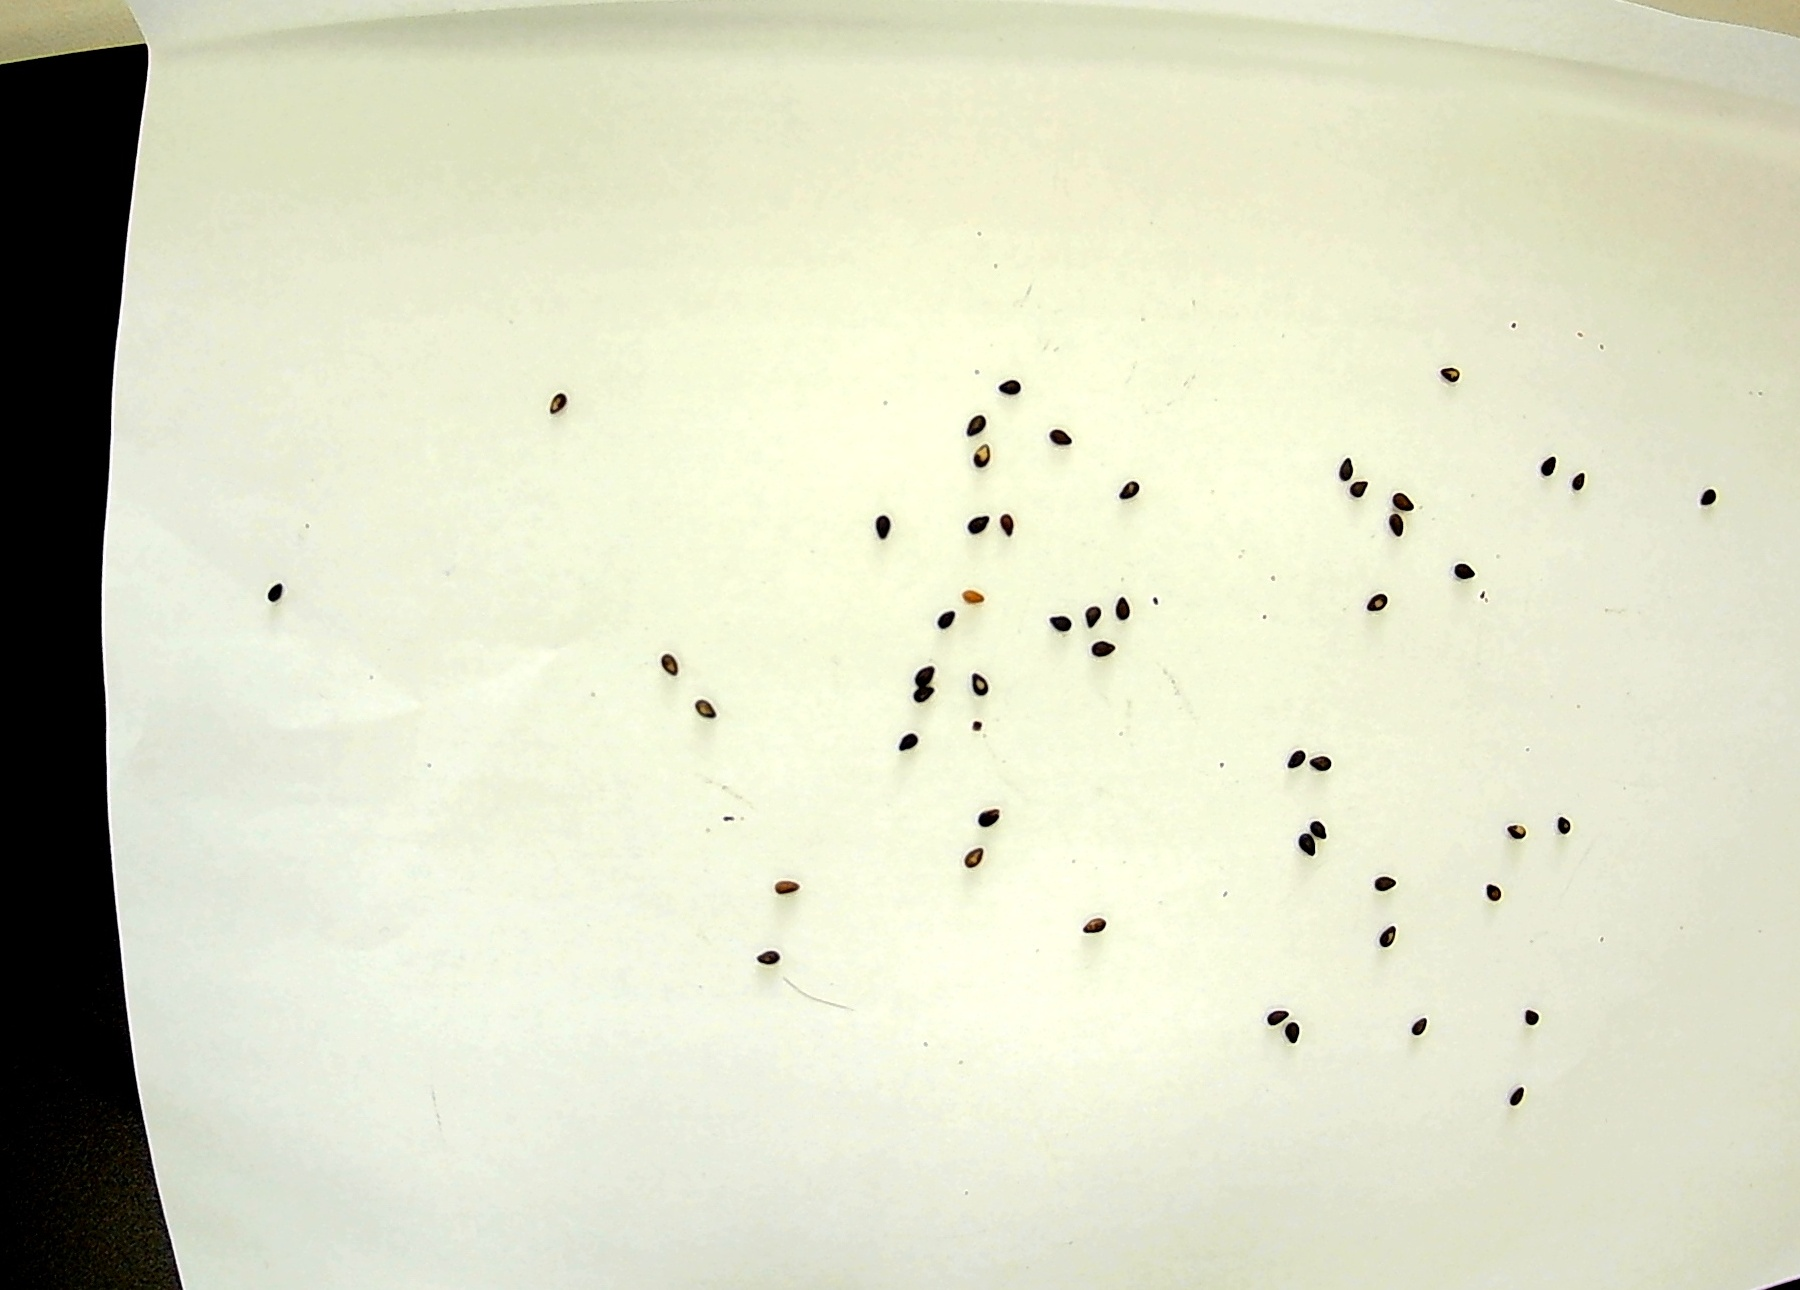sesami: (1433, 556, 1478, 582), (1480, 877, 1514, 912), (749, 944, 788, 973), (1383, 515, 1423, 542), (1040, 423, 1081, 448), (964, 807, 1002, 833), (1079, 909, 1111, 940), (954, 579, 993, 605), (659, 649, 688, 683), (954, 845, 991, 871), (1328, 451, 1358, 483), (993, 371, 1028, 398), (959, 412, 993, 438), (1115, 477, 1150, 504), (1359, 591, 1391, 618), (1107, 586, 1129, 625), (966, 515, 995, 544), (1264, 1001, 1295, 1029), (1380, 491, 1420, 512), (871, 512, 899, 542), (933, 609, 963, 637), (908, 656, 935, 687), (899, 725, 925, 755), (1282, 741, 1305, 778), (767, 875, 812, 894), (901, 687, 949, 704), (1088, 637, 1126, 658), (691, 698, 726, 720), (1347, 482, 1372, 512), (1503, 1082, 1528, 1113), (1293, 829, 1317, 861), (970, 436, 991, 472), (998, 498, 1014, 543), (1545, 813, 1582, 832), (1694, 482, 1716, 514), (1434, 364, 1460, 391), (258, 584, 294, 602), (973, 667, 995, 697), (1525, 1008, 1545, 1041), (1307, 814, 1333, 839), (1077, 607, 1107, 628), (1536, 450, 1553, 486), (1310, 751, 1337, 773), (1372, 873, 1398, 895), (1503, 818, 1529, 840), (1372, 926, 1395, 949), (1045, 613, 1079, 630), (1567, 469, 1588, 496), (1285, 1023, 1307, 1044), (553, 388, 567, 422), (1407, 1018, 1427, 1039)
